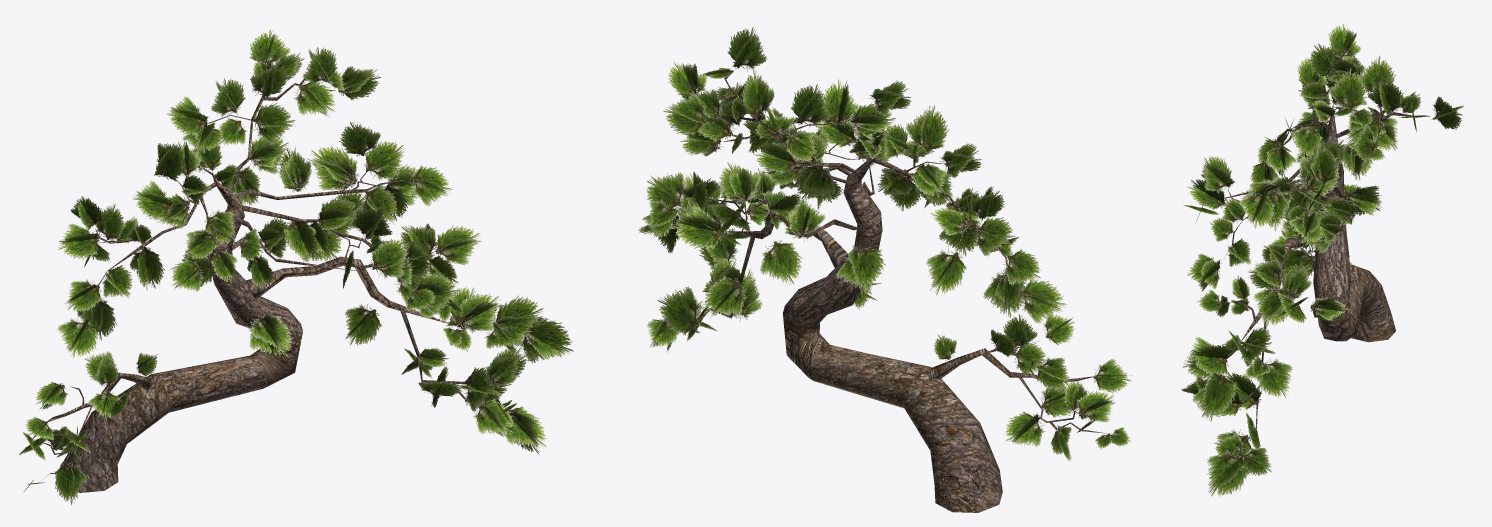
Rendered from pin_tree1Lod1.fbx.
3 renders of one model, left to right at view 1: azimuth 30°, elevation 25°; view 2: azimuth 150°, elevation 25°; view 3: azimuth 270°, elevation 25°, orthographic. The views are drawn at different scales.
Parts seen in each view (by area): view 1: pin_tree_leavesLod1, pin_tree_trunkLod1; view 2: pin_tree_leavesLod1, pin_tree_trunkLod1; view 3: pin_tree_leavesLod1, pin_tree_trunkLod1.
Boxes of the visible parts, x1,y1,x2,y2 form: pin_tree_leavesLod1: (19, 29, 573, 505); pin_tree_trunkLod1: (34, 78, 487, 492); pin_tree_leavesLod1: (638, 27, 1131, 461); pin_tree_trunkLod1: (697, 70, 1106, 512); pin_tree_leavesLod1: (1181, 23, 1463, 497); pin_tree_trunkLod1: (1223, 68, 1429, 446).
Size of the model in its own units: 255 by 193 by 142.
